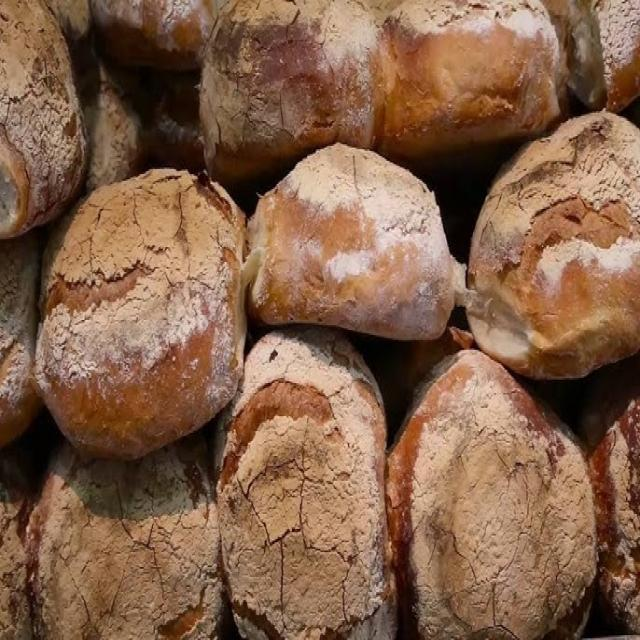Maltese-Bread: (385, 350, 598, 638), (35, 169, 245, 456), (216, 327, 396, 638), (464, 111, 639, 378), (21, 428, 226, 638), (247, 143, 453, 338), (200, 0, 381, 177), (370, 0, 565, 161)
